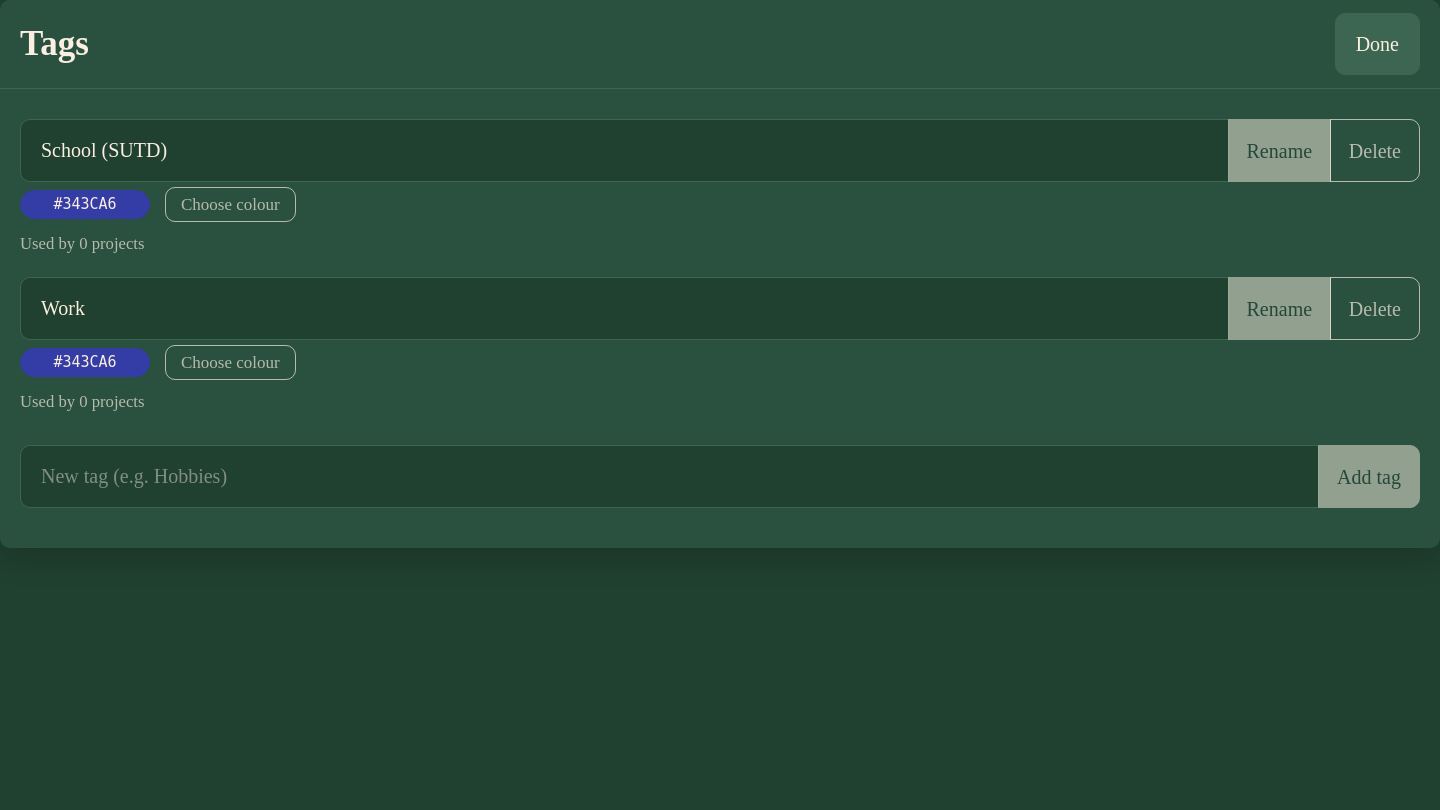
Test: TagManager › goes back to the old colour and shows the error when a colour change fails
Type "#17646a" into the 2nd colour field at (720, 353), box [20,321,1420,384]
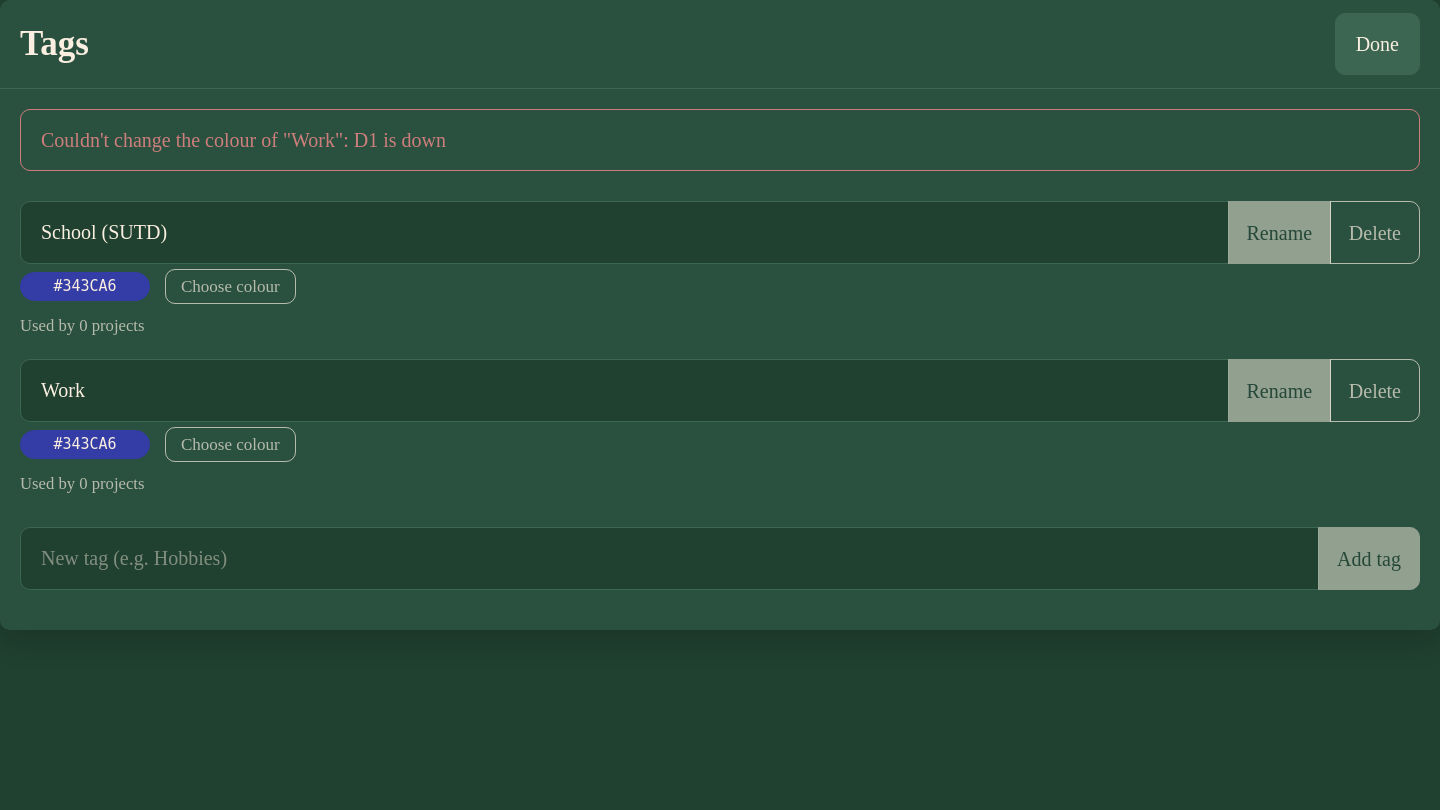
Expected: the 2nd text with class "color-swatch" reads "#343ca6", [53,435,117,453]
Expected: the message "Couldn't change the colour of \"Work\": D1 is down" reads "Couldn't change the colour of \"Work\": D1 is down", [41,129,446,151]
